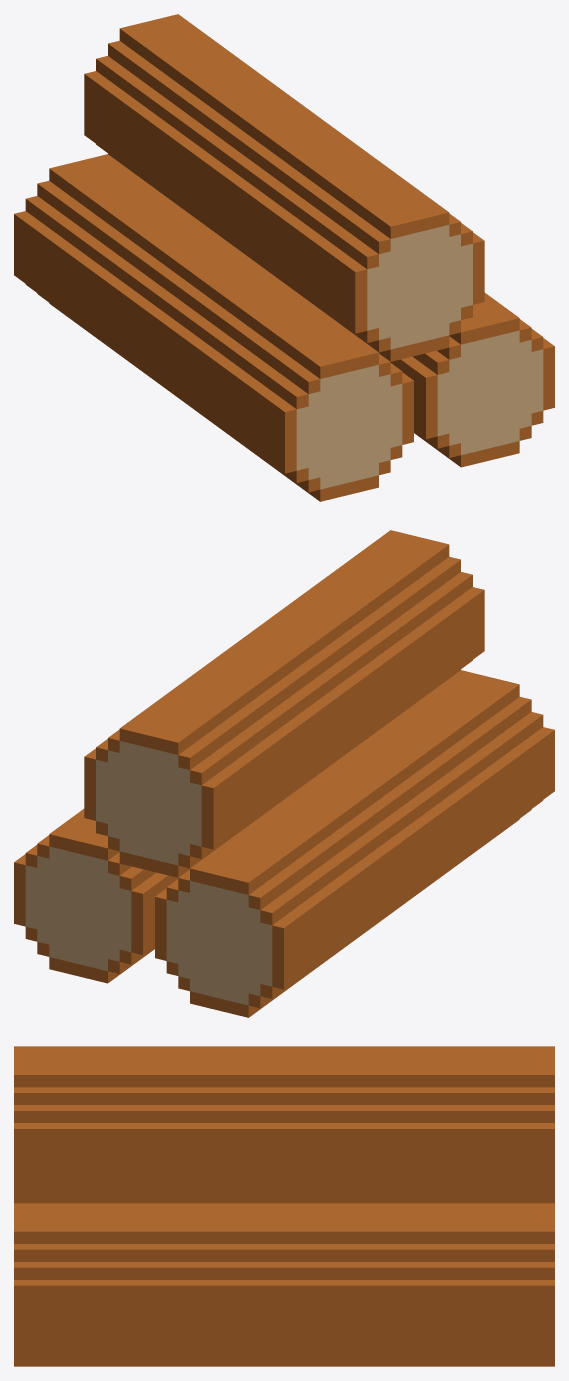
Rendered from Logs.obj.
3 views of the same model, one above another, from view 1: azimuth 30°, elevation 25°; view 2: azimuth 150°, elevation 25°; view 3: azimuth 270°, elevation 25° (orthographic).
Bounding box in the file's own units: 2.3 × 2.1 × 4.
Materials: 1 (1 with a texture image).
